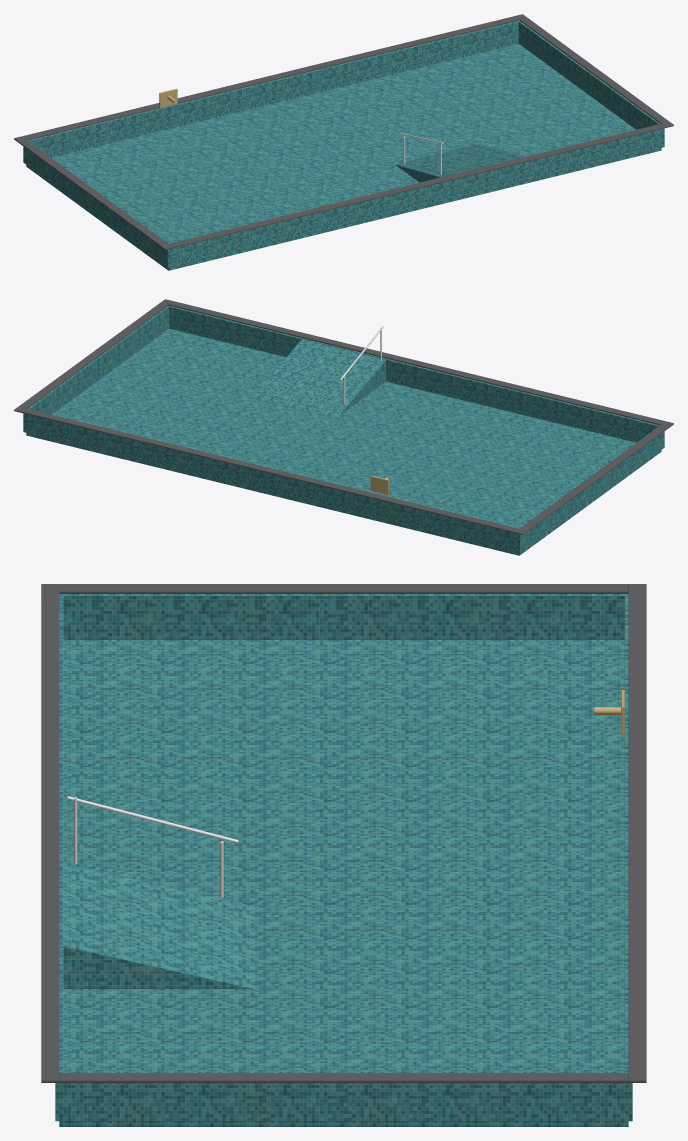
The model's file is tub.glb.
The picture shows the model from 3 angles, top to bottom: view 1: azimuth 30°, elevation 25°; view 2: azimuth 150°, elevation 25°; view 3: azimuth 270°, elevation 25°; orthographic projection. The views are drawn at different scales.
Visible parts, largest first — view 1: Tub; view 2: Tub; view 3: Tub.
Boxes of the visible parts, x1,y1,x2,y2 form: Tub: (14, 14, 673, 270); Tub: (14, 299, 673, 555); Tub: (41, 584, 646, 1126).
Bounding box in the file's own units: 14.44 × 1.62 × 7.44.
Materials: 4 (1 with a texture image).
